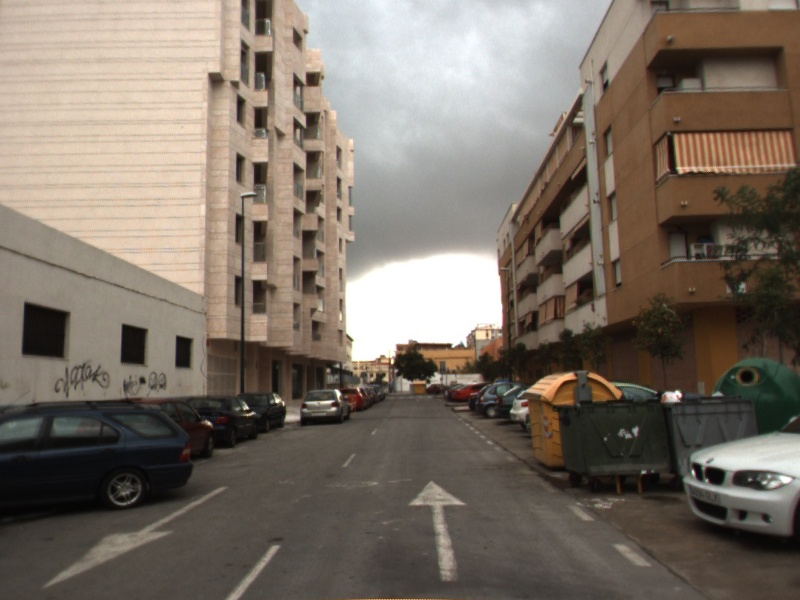STRAIGHT: (406, 477, 471, 584)
